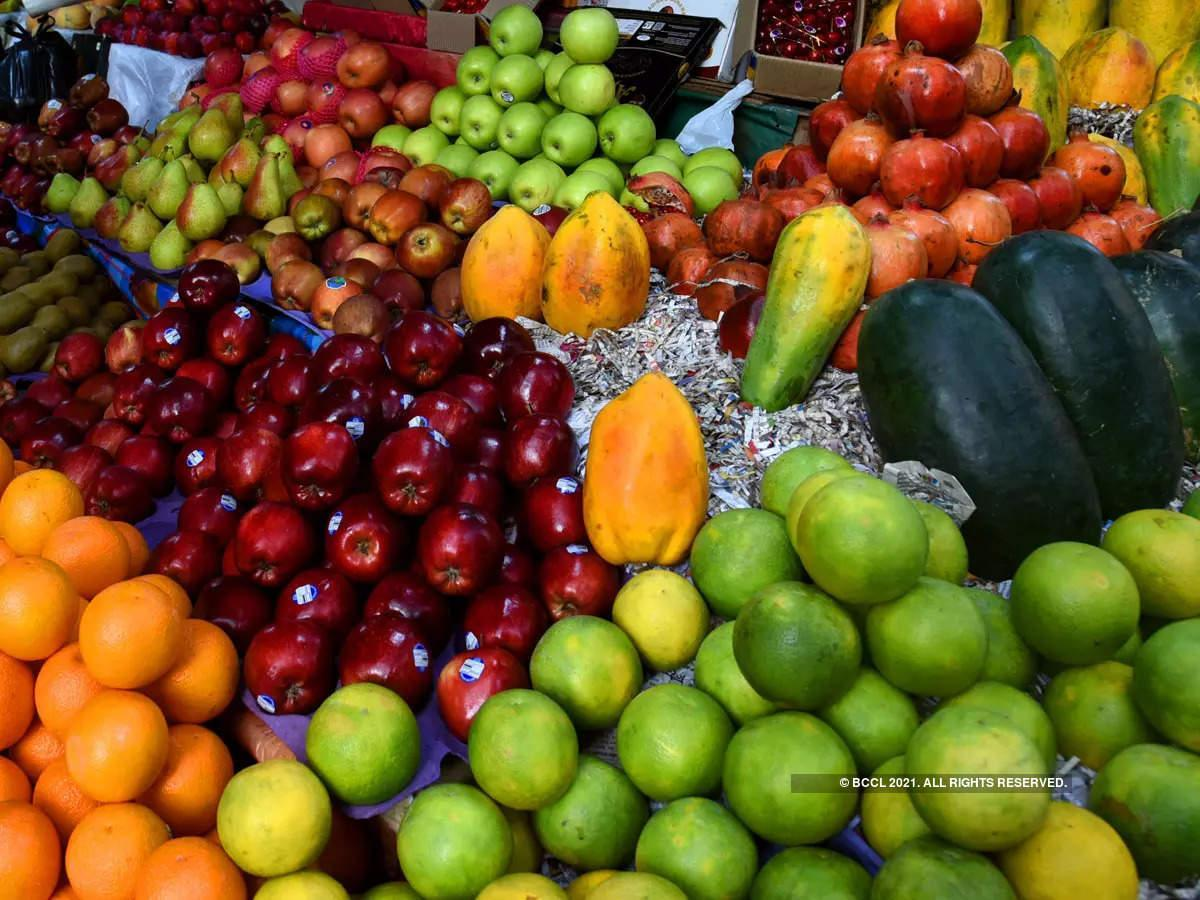apple: (303, 684, 422, 809), (541, 112, 598, 167), (600, 105, 657, 160), (559, 64, 618, 113), (560, 14, 619, 63), (496, 102, 546, 158), (489, 54, 540, 107), (511, 160, 565, 208), (487, 13, 544, 56), (556, 171, 617, 206), (460, 95, 501, 146), (455, 46, 498, 93), (473, 150, 514, 199), (430, 86, 467, 135), (404, 125, 446, 167), (441, 144, 475, 179)
